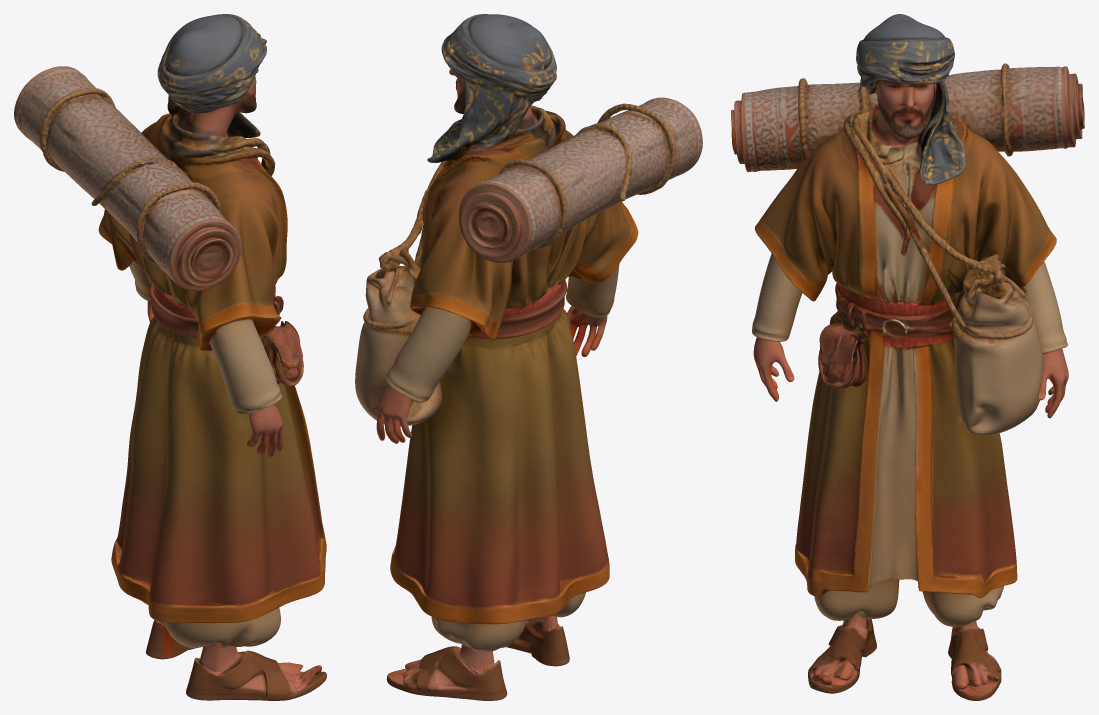
Rendered from 6e66a4dd-e7df-454e-875f-82ce6bda8216.glb.
The picture shows the model from 3 angles, left to right: view 1: azimuth 30°, elevation 25°; view 2: azimuth 150°, elevation 25°; view 3: azimuth 270°, elevation 25°; orthographic projection.
Parts seen in each view (by area): view 1: tripo_node_1b3f658b-ebe2-46c3-9c66-c244969e02be; view 2: tripo_node_1b3f658b-ebe2-46c3-9c66-c244969e02be; view 3: tripo_node_1b3f658b-ebe2-46c3-9c66-c244969e02be.
Part boxes in pixels (box(x1,y1,x2,y2)): tripo_node_1b3f658b-ebe2-46c3-9c66-c244969e02be: box(14, 14, 326, 700); tripo_node_1b3f658b-ebe2-46c3-9c66-c244969e02be: box(355, 14, 702, 700); tripo_node_1b3f658b-ebe2-46c3-9c66-c244969e02be: box(731, 14, 1084, 700).
Size of the model in its own units: 0.3581 by 1 by 0.4995.
Materials: 1 (1 with a texture image).
